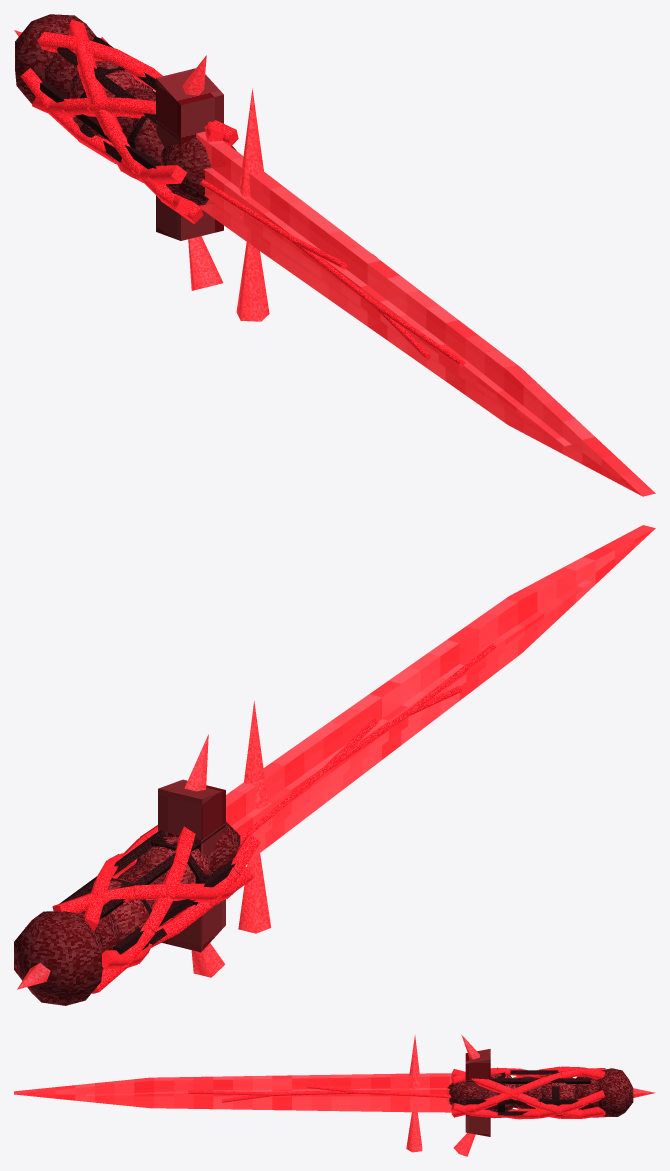
The model's file is faca_cristal_roberto.glb.
The picture shows the model from 3 angles, top to bottom: view 1: azimuth 30°, elevation 25°; view 2: azimuth 150°, elevation 25°; view 3: azimuth 270°, elevation 25°; orthographic projection. The views are drawn at different scales.
Visible parts, largest first — view 1: faca_facetada_roberto; view 2: faca_facetada_roberto; view 3: faca_facetada_roberto.
Part boxes in pixels (<box>): faca_facetada_roberto: <box>14,14,655,496</box>; faca_facetada_roberto: <box>14,525,655,1005</box>; faca_facetada_roberto: <box>14,1034,655,1156</box>.
Bounding box in the file's own units: 0.0421 × 0.1056 × 0.509.
Materials: 5 (5 with a texture image).
